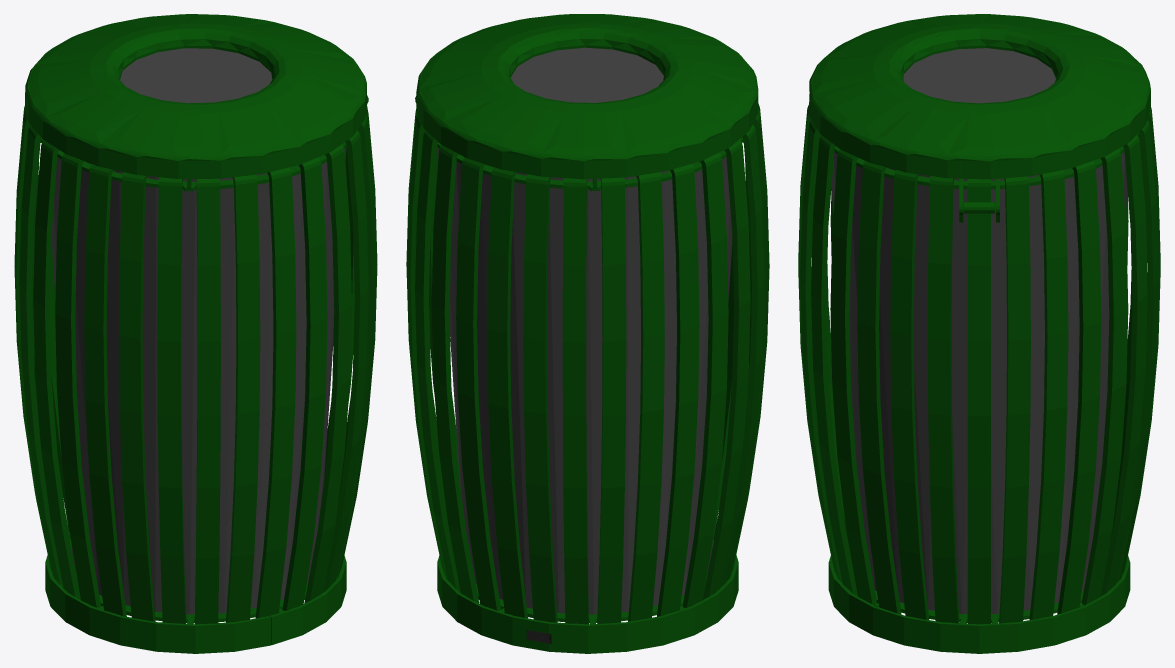
The picture shows the model from 3 angles, left to right: view 1: azimuth 30°, elevation 25°; view 2: azimuth 150°, elevation 25°; view 3: azimuth 270°, elevation 25°; orthographic projection.
Parts seen in each view (by area): view 1: mesh48.002_mesh48-geometry, mesh32.002_mesh32-geometry, mesh1.047_mesh1-geometry, mesh1.049_mesh1-geometry, mesh1.046_mesh1-geometry, mesh1.048_mesh1-geometry, mesh1.050_mesh1-geometry, mesh1.045_mesh1-geometry, mesh1.051_mesh1-geometry, mesh3.002_mesh3-geometry, mesh1.044_mesh1-geometry, mesh1.052_mesh1-geometry (+10 smaller); view 2: mesh48.002_mesh48-geometry, mesh32.002_mesh32-geometry, mesh1.037_mesh1-geometry, mesh1.039_mesh1-geometry, mesh1.040_mesh1-geometry, mesh1.038_mesh1-geometry, mesh1.034_mesh1-geometry, mesh1.041_mesh1-geometry, mesh1.033_mesh1-geometry, mesh1.042_mesh1-geometry, mesh3.002_mesh3-geometry, mesh1.032_mesh1-geometry (+10 smaller); view 3: mesh48.002_mesh48-geometry, mesh32.002_mesh32-geometry, mesh1.036_mesh1-geometry, mesh1.029_mesh1-geometry, mesh1.035_mesh1-geometry, mesh1.055_mesh1-geometry, mesh1.056_mesh1-geometry, mesh1.054_mesh1-geometry, mesh1.030_mesh1-geometry, mesh3.002_mesh3-geometry, mesh1.053_mesh1-geometry, mesh1.031_mesh1-geometry (+9 smaller).
Part boxes in pixels (left/top/right/bottom): mesh48.002_mesh48-geometry: left=51, top=48, right=346, bottom=614; mesh32.002_mesh32-geometry: left=25, top=14, right=366, bottom=178; mesh1.047_mesh1-geometry: left=157, top=177, right=186, bottom=623; mesh1.049_mesh1-geometry: left=226, top=174, right=260, bottom=622; mesh1.046_mesh1-geometry: left=119, top=172, right=155, bottom=621; mesh1.048_mesh1-geometry: left=194, top=178, right=220, bottom=624; mesh1.050_mesh1-geometry: left=255, top=167, right=296, bottom=618; mesh1.045_mesh1-geometry: left=84, top=164, right=126, bottom=616; mesh1.051_mesh1-geometry: left=282, top=157, right=327, bottom=610; mesh3.002_mesh3-geometry: left=45, top=539, right=346, bottom=653; mesh1.044_mesh1-geometry: left=55, top=153, right=100, bottom=607; mesh1.052_mesh1-geometry: left=304, top=144, right=351, bottom=603; mesh48.002_mesh48-geometry: left=437, top=47, right=732, bottom=614; mesh32.002_mesh32-geometry: left=416, top=14, right=758, bottom=179; mesh1.037_mesh1-geometry: left=523, top=174, right=557, bottom=622; mesh1.039_mesh1-geometry: left=597, top=177, right=626, bottom=623; mesh1.040_mesh1-geometry: left=628, top=172, right=664, bottom=621; mesh1.038_mesh1-geometry: left=562, top=178, right=588, bottom=624; mesh1.034_mesh1-geometry: left=487, top=167, right=527, bottom=618; mesh1.041_mesh1-geometry: left=657, top=164, right=699, bottom=616; mesh1.033_mesh1-geometry: left=456, top=157, right=500, bottom=610; mesh1.042_mesh1-geometry: left=682, top=153, right=728, bottom=608; mesh3.002_mesh3-geometry: left=437, top=539, right=738, bottom=653; mesh1.032_mesh1-geometry: left=431, top=145, right=479, bottom=602; mesh48.002_mesh48-geometry: left=831, top=48, right=1127, bottom=613; mesh32.002_mesh32-geometry: left=809, top=14, right=1150, bottom=179; mesh1.036_mesh1-geometry: left=999, top=176, right=1030, bottom=623; mesh1.029_mesh1-geometry: left=927, top=176, right=959, bottom=623; mesh1.035_mesh1-geometry: left=1029, top=170, right=1068, bottom=619; mesh1.055_mesh1-geometry: left=890, top=170, right=929, bottom=619; mesh1.056_mesh1-geometry: left=967, top=179, right=990, bottom=624; mesh1.054_mesh1-geometry: left=857, top=161, right=901, bottom=614; mesh1.030_mesh1-geometry: left=1057, top=160, right=1101, bottom=614; mesh3.002_mesh3-geometry: left=828, top=545, right=1130, bottom=653; mesh1.053_mesh1-geometry: left=830, top=149, right=876, bottom=604; mesh1.031_mesh1-geometry: left=1081, top=149, right=1128, bottom=605.
Bounding box in the file's own units: 0.4757 × 0.7452 × 0.4672.
